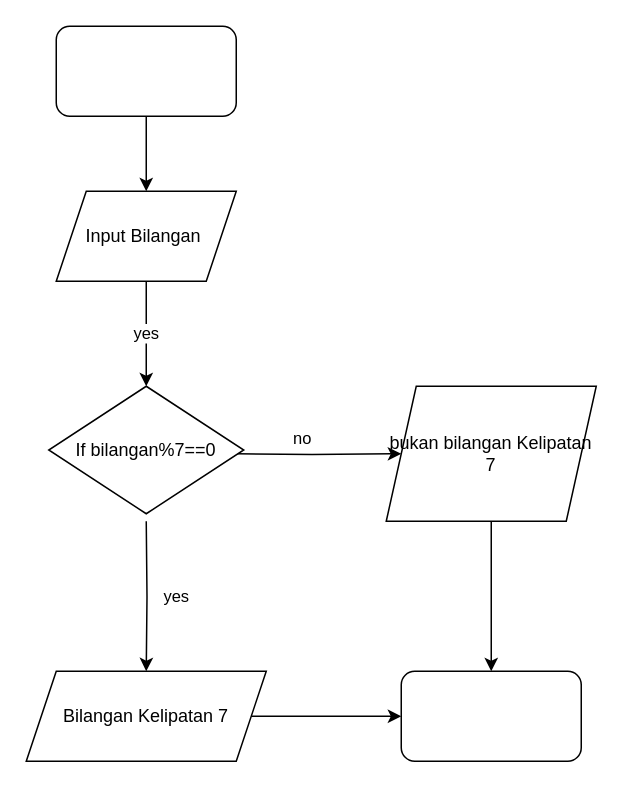
The diagram is 623 pixels wide and 788 high, and some of its shapes have lost their labels. Each missing label, with the centre of its shape:
End: (x=490, y=715)
Mulai: (x=145, y=70)
